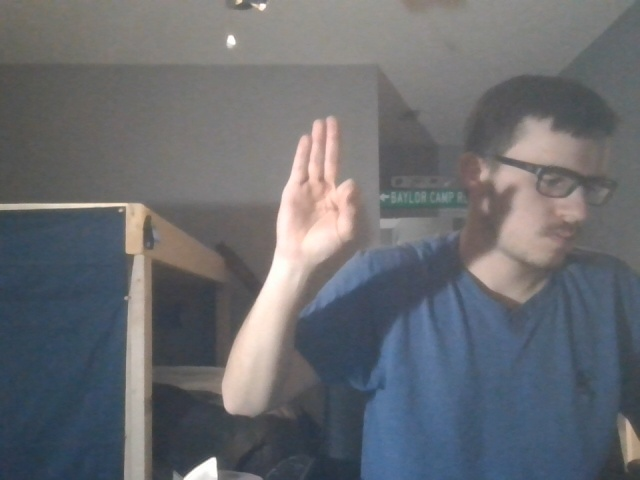F: (271, 114, 372, 275)
